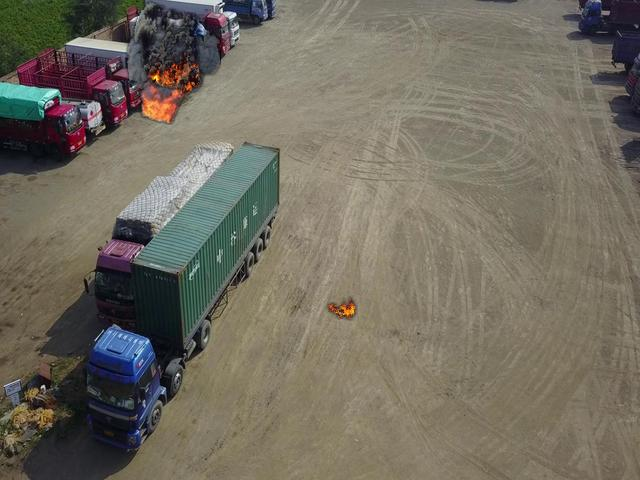fire: (126, 29, 219, 122), (132, 1, 202, 96), (326, 295, 357, 321)
